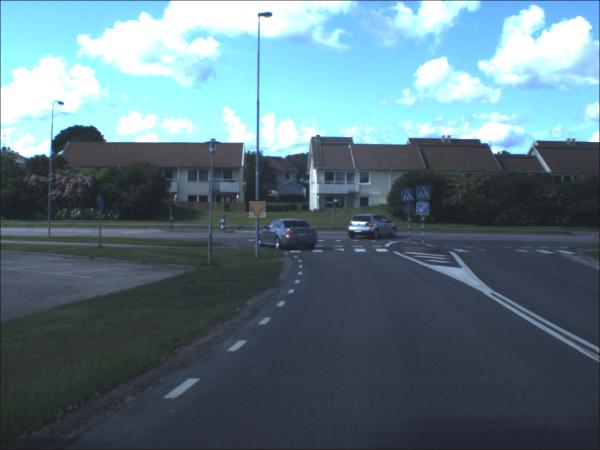GIVE_WAY: (249, 202, 267, 220)
PASS_RIGHT_SIDE: (416, 203, 430, 217)
PEDESTRIAN_CROSSING: (417, 188, 431, 202), (401, 191, 414, 203)
